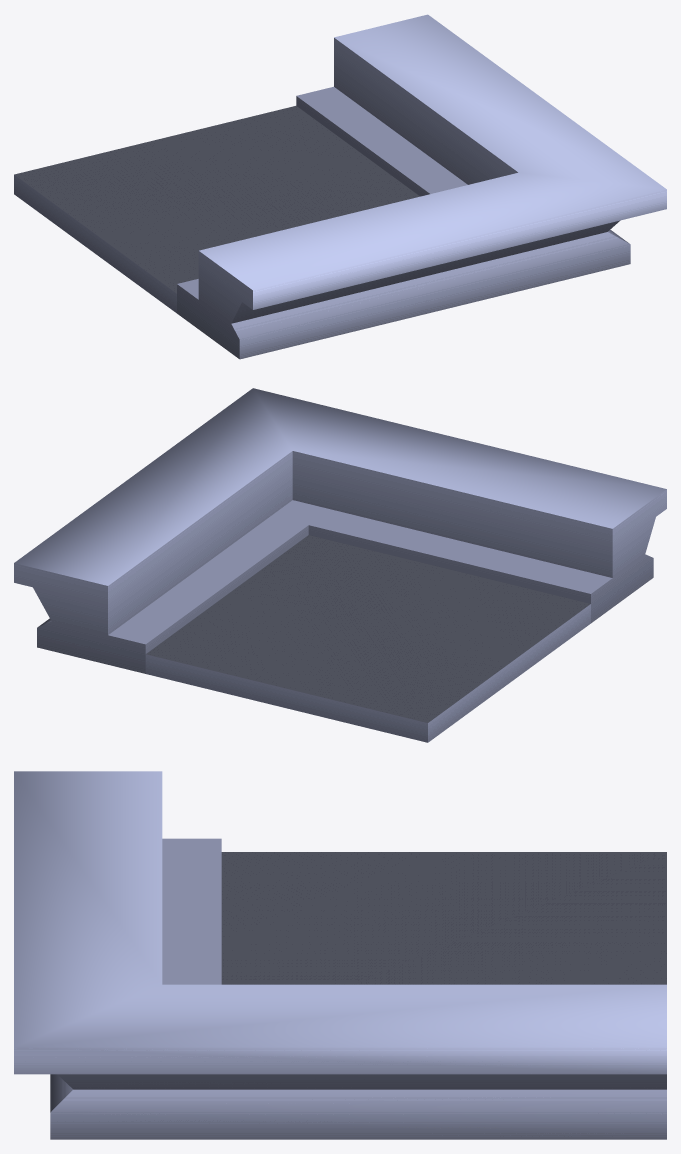
Rendered from roof-flat-corner.glb.
The picture shows the model from 3 angles, top to bottom: view 1: azimuth 30°, elevation 25°; view 2: azimuth 150°, elevation 25°; view 3: azimuth 270°, elevation 25°; orthographic projection. The views are drawn at different scales.
Parts seen in each view (by area): view 1: roof-flat-corner; view 2: roof-flat-corner; view 3: roof-flat-corner.
Part boxes in pixels (x1,y1,x2,y2): roof-flat-corner: (14, 14, 666, 359); roof-flat-corner: (14, 388, 666, 742); roof-flat-corner: (14, 771, 666, 1139).
Bounding box in the file's own units: 2.2 × 0.4 × 2.2.
1 material, 1 textured.
